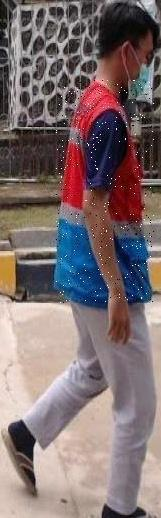boots: (1, 424, 37, 496), (100, 503, 158, 518)
vest: (16, 79, 153, 295)
